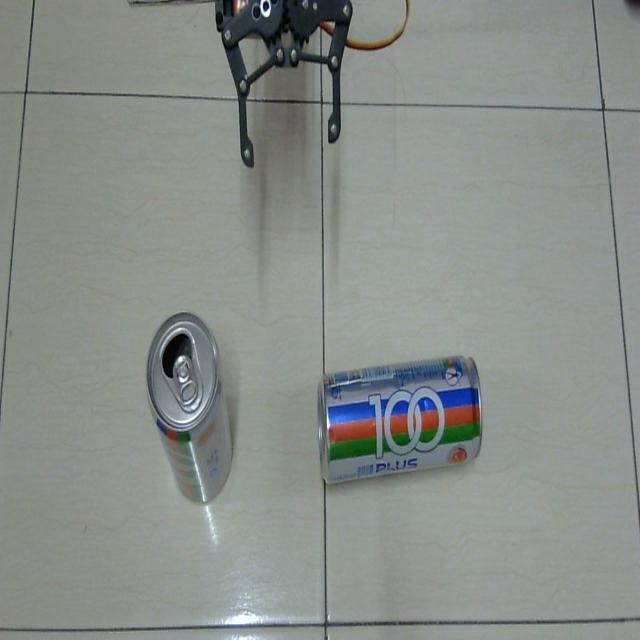metal_laydown_0rotation: (309, 343, 497, 490)
metal_standrotation: (140, 304, 240, 510)
